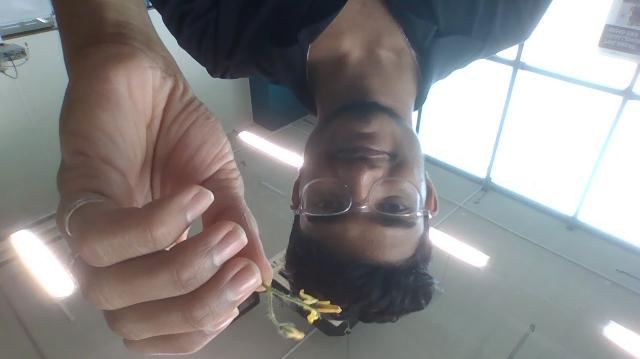Anthesis: (295, 288, 342, 323), (280, 324, 305, 341), (312, 301, 341, 314), (299, 290, 318, 304), (306, 310, 318, 324)
